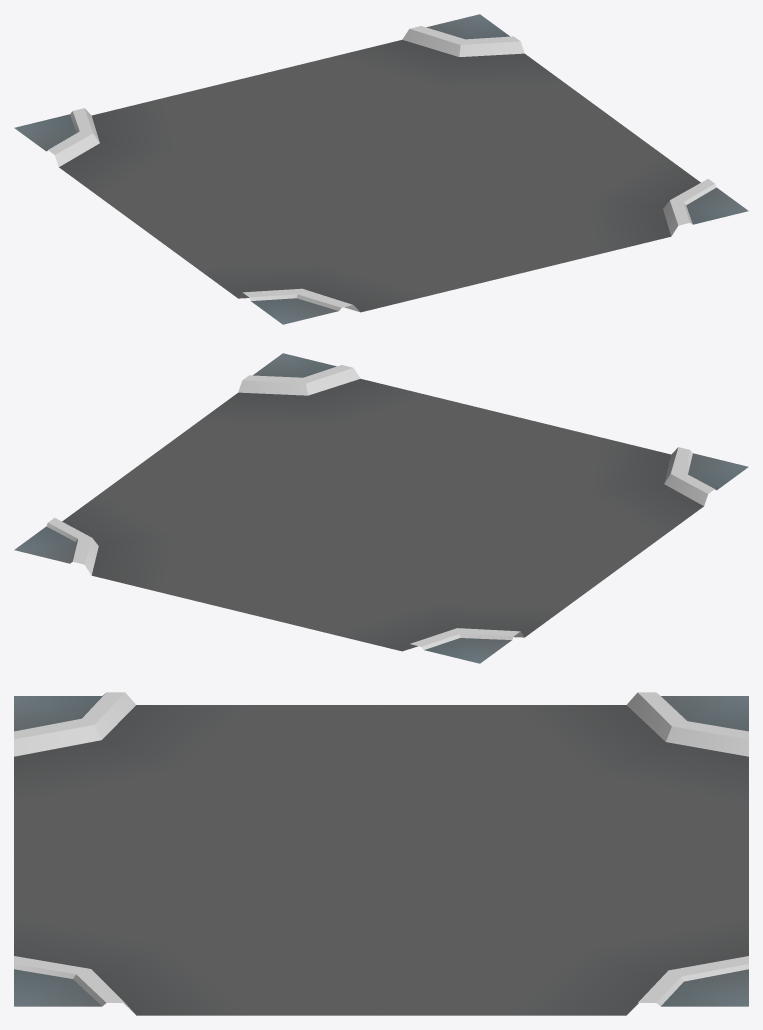
The model's file is SRoad04.fbx.
3 renders of one model, top to bottom at view 1: azimuth 30°, elevation 25°; view 2: azimuth 150°, elevation 25°; view 3: azimuth 270°, elevation 25°, orthographic. The views are drawn at different scales.
Visible parts, largest first — view 1: SRoad16; view 2: SRoad16; view 3: SRoad16.
Part boxes in pixels (box(x1,y1,x2,y2)): SRoad16: box(14, 14, 748, 324); SRoad16: box(14, 353, 748, 663); SRoad16: box(14, 692, 748, 1015).
Size of the model in its own units: 2 by 0.038 by 2.
